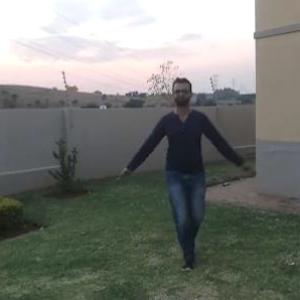land: (135, 84, 238, 264)
